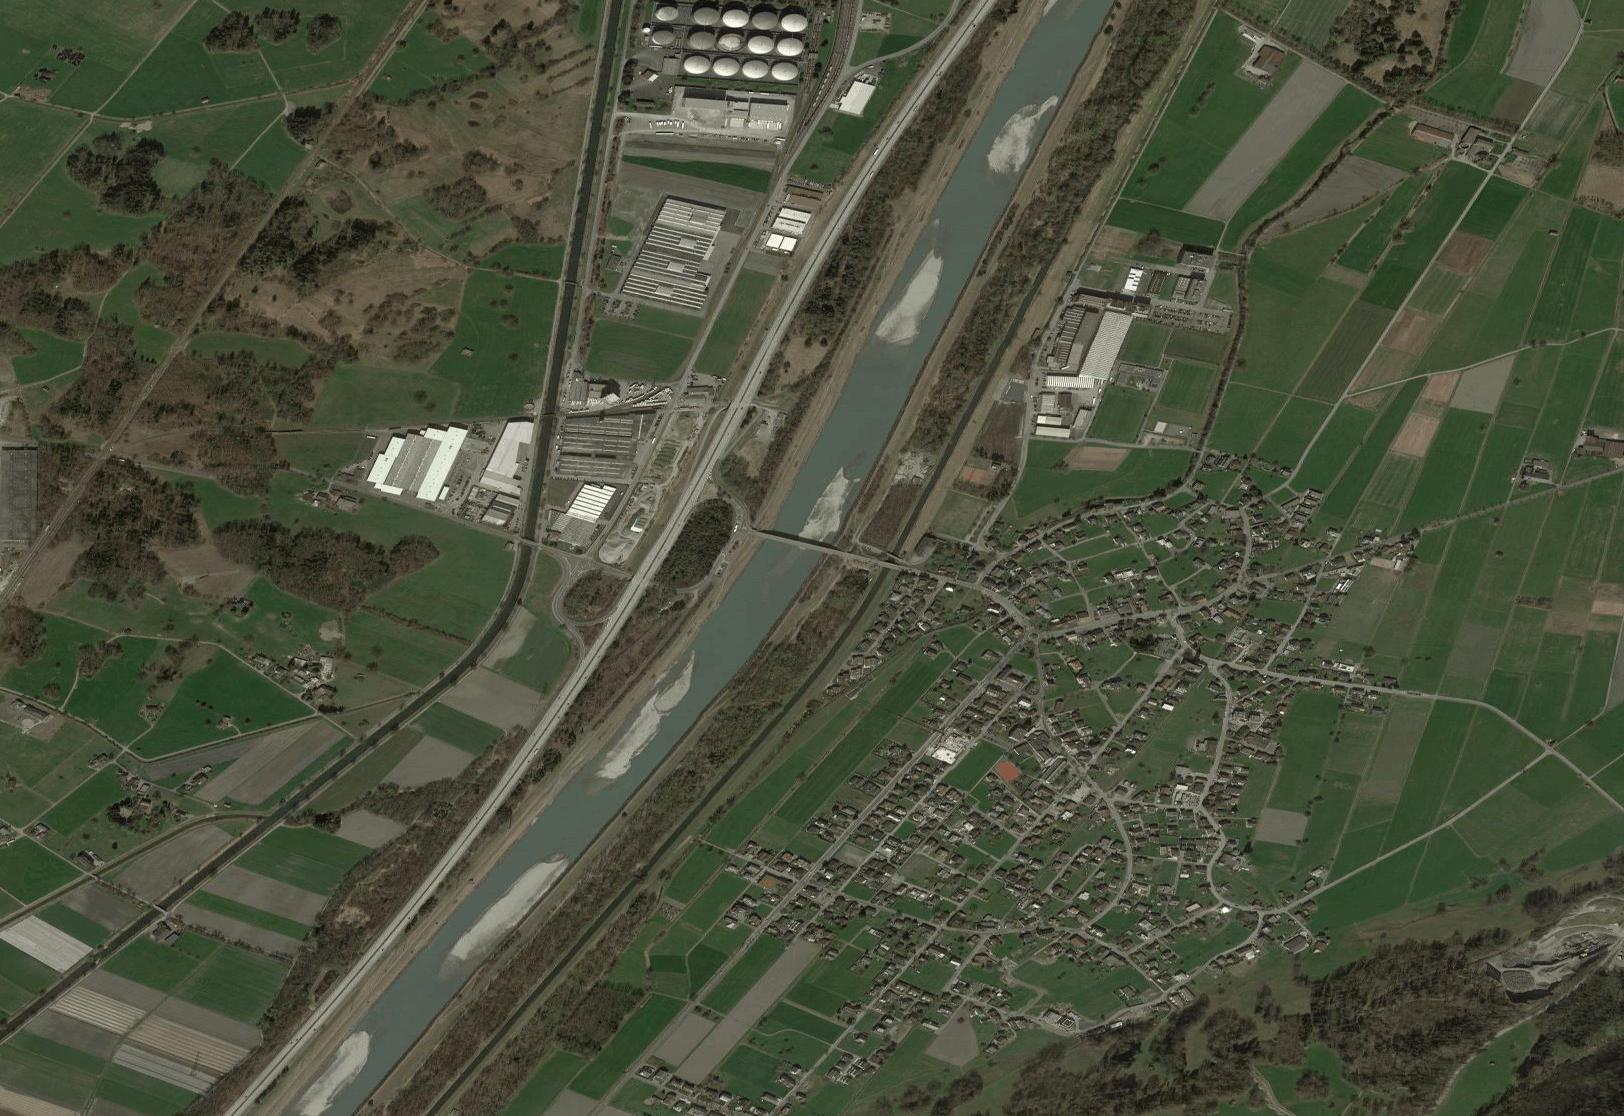bridge: (756, 528, 842, 560)
industrial: (355, 386, 657, 568)
